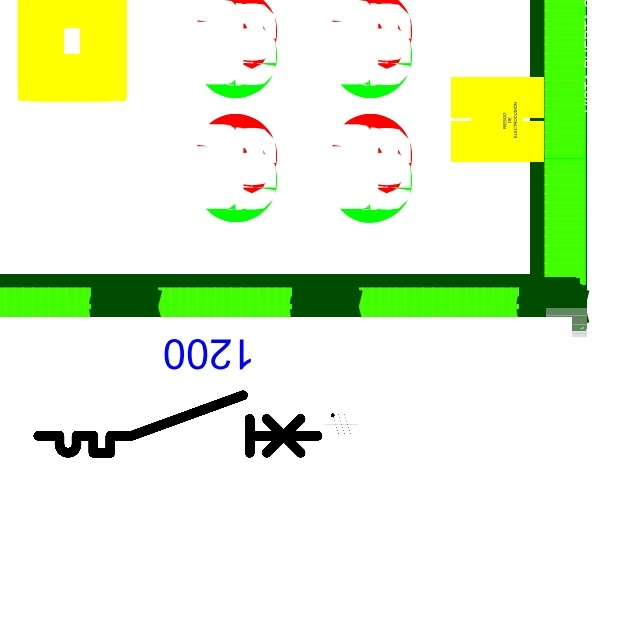interruptor_termomagnetico: (31, 388, 325, 460)
